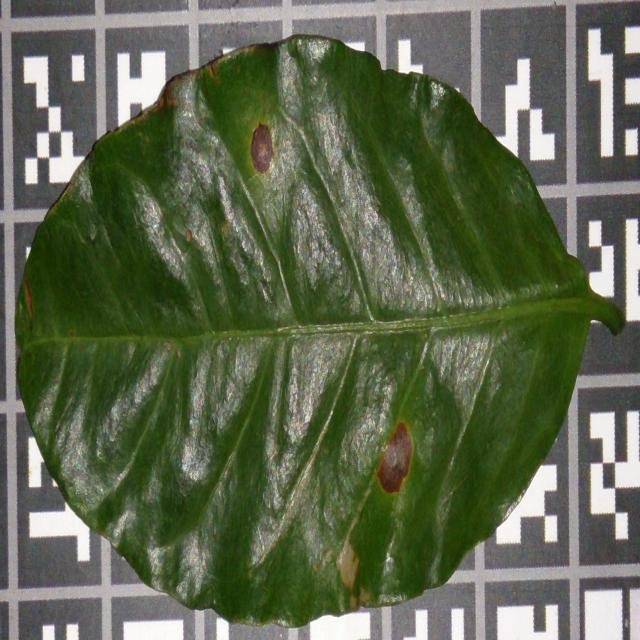Enfermedad-Mancha-de-hierro: (15, 37, 627, 632)
